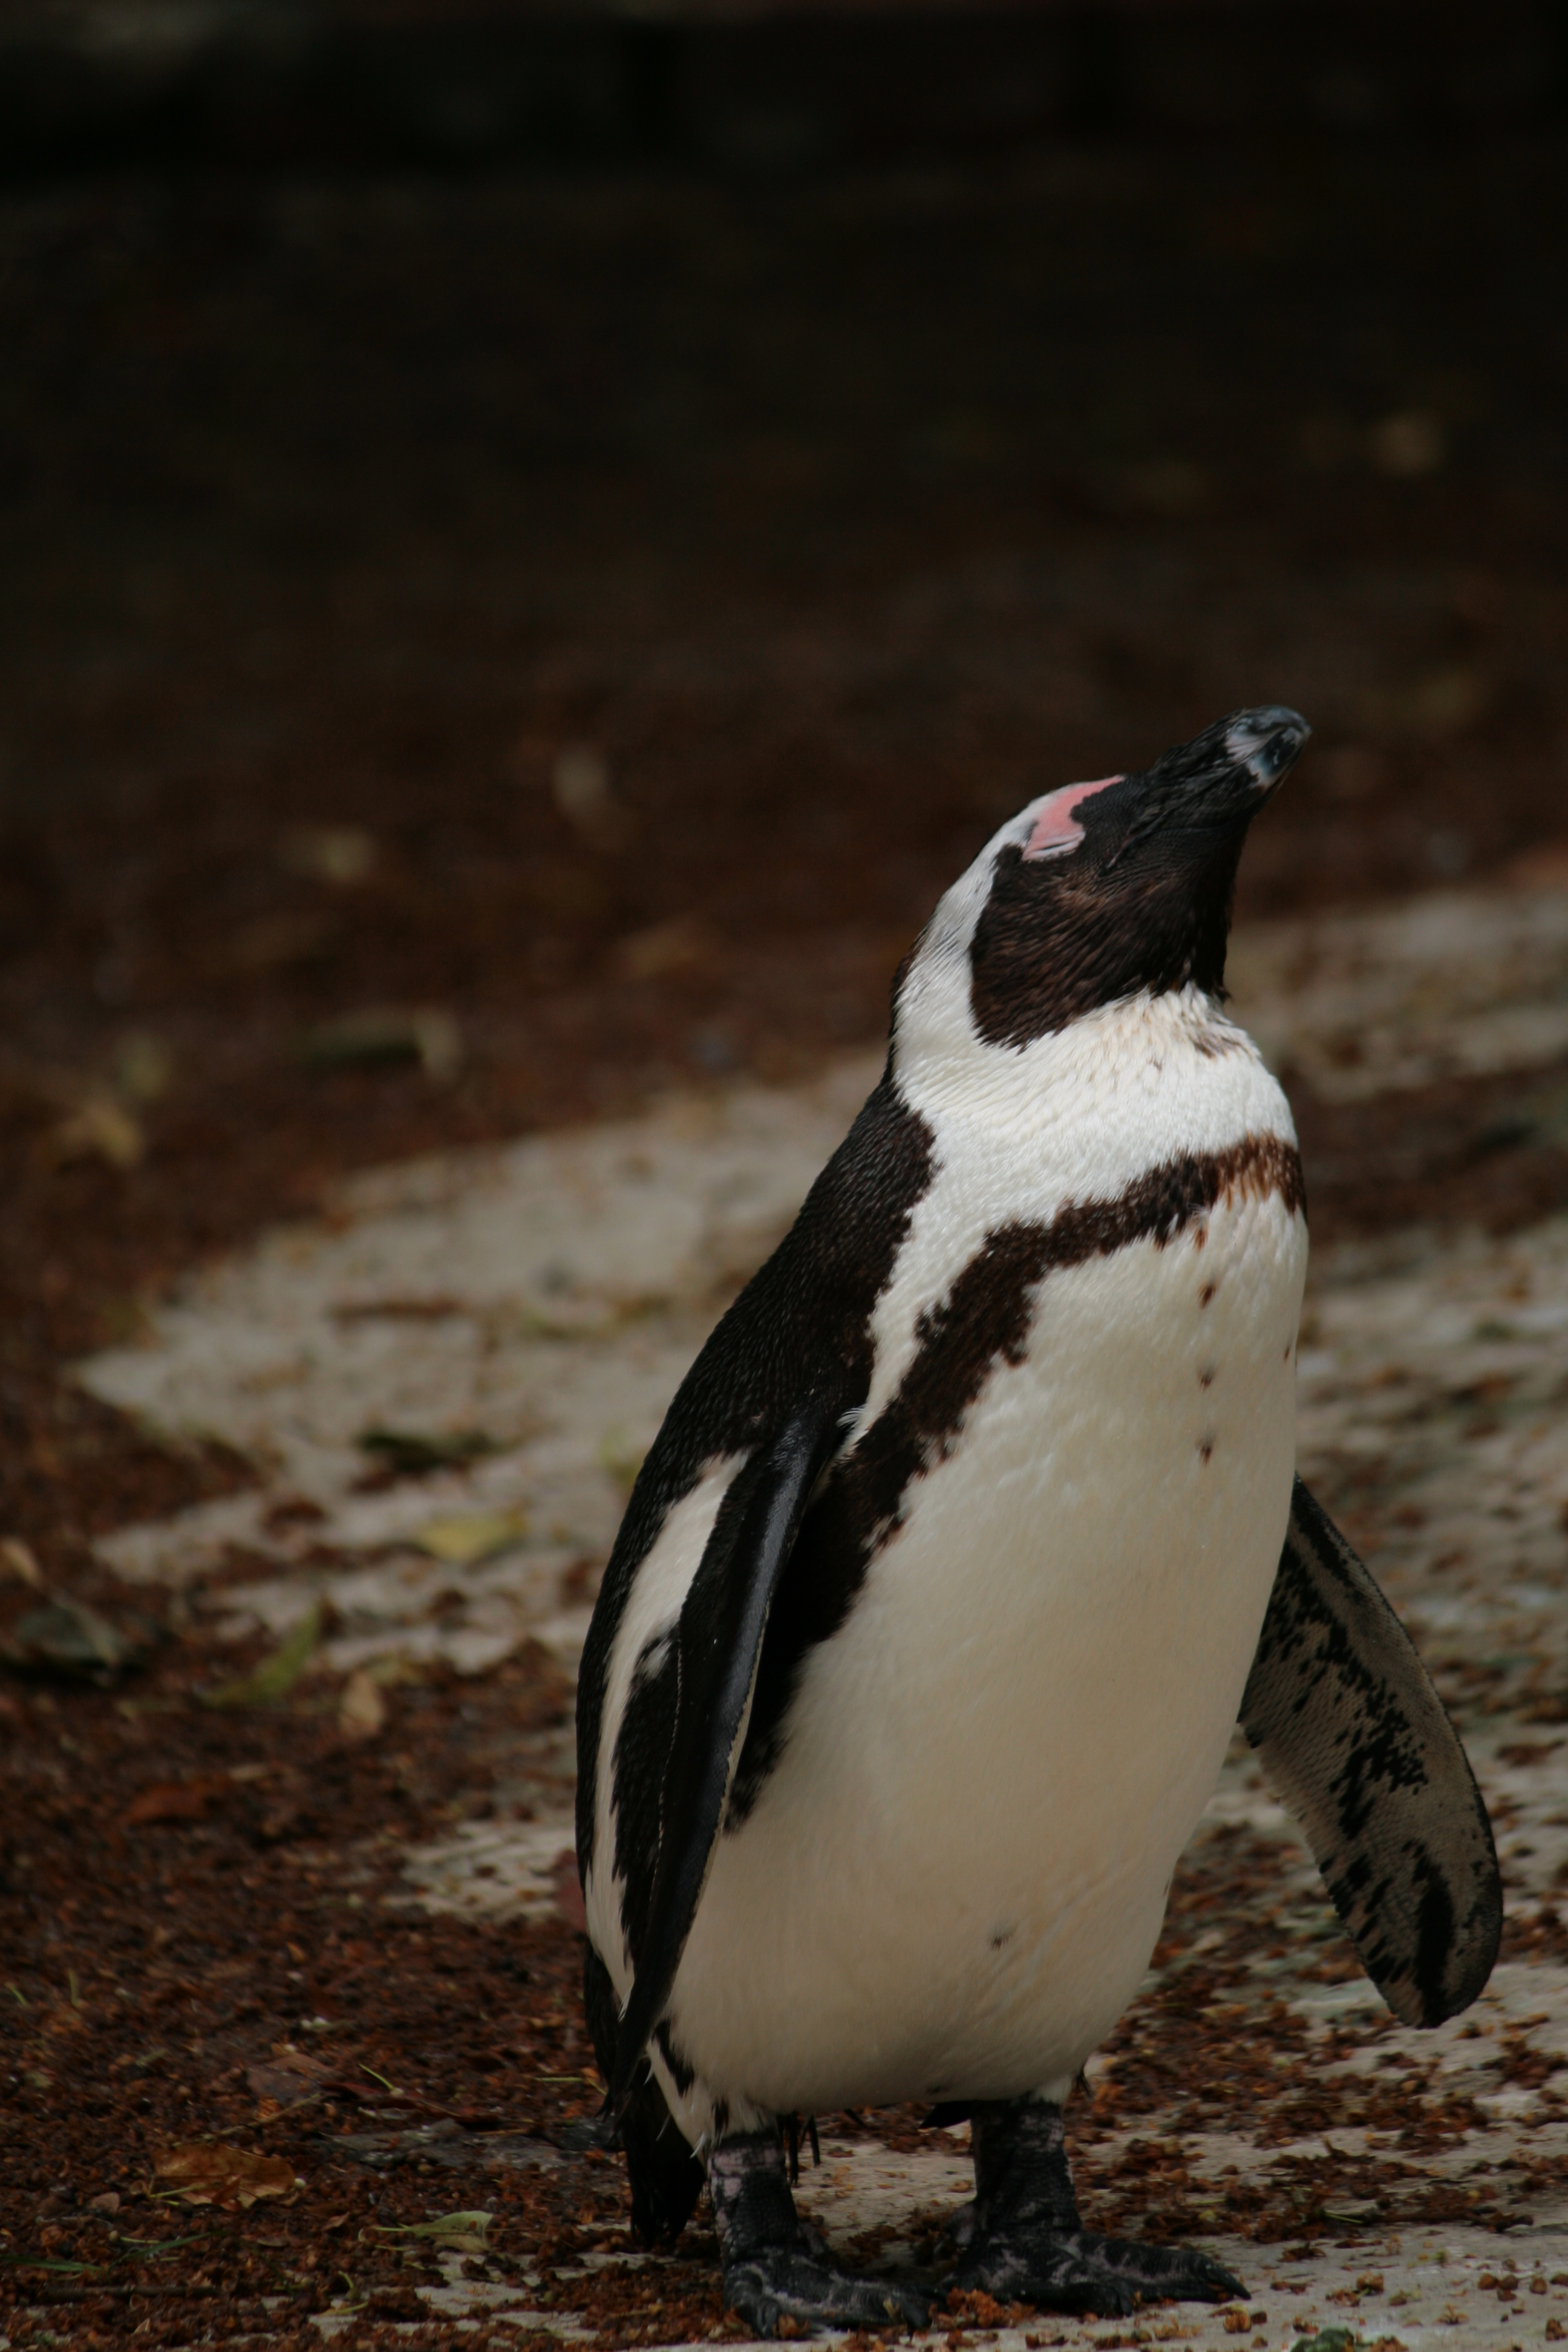penguin: (549, 698, 1512, 2306)
